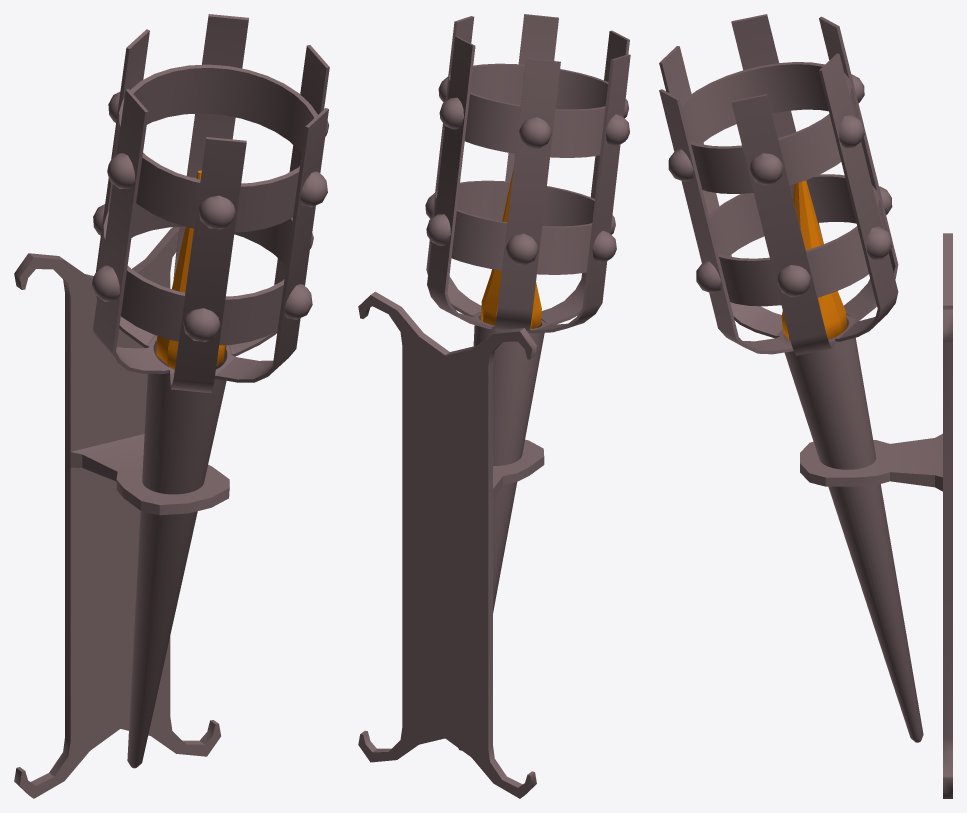
File: antorcha.fbx
3 views of the same model, side by side, from view 1: azimuth 30°, elevation 25°; view 2: azimuth 150°, elevation 25°; view 3: azimuth 270°, elevation 25° (orthographic). The views are drawn at different scales.
Visible parts, largest first — view 1: antorcha_LOD_0; view 2: antorcha_LOD_0; view 3: antorcha_LOD_0.
Boxes of the visible parts, bbox=[...] form: antorcha_LOD_0: bbox=[14, 14, 329, 798]; antorcha_LOD_0: bbox=[358, 14, 630, 798]; antorcha_LOD_0: bbox=[659, 14, 952, 798].
Size of what is drawn, in the model's own units: 128 by 451 by 167.
